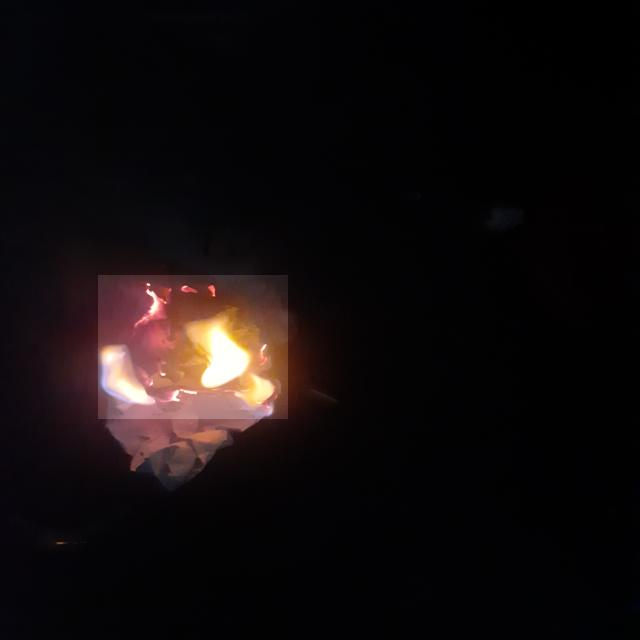Fire: (98, 275, 288, 419)
